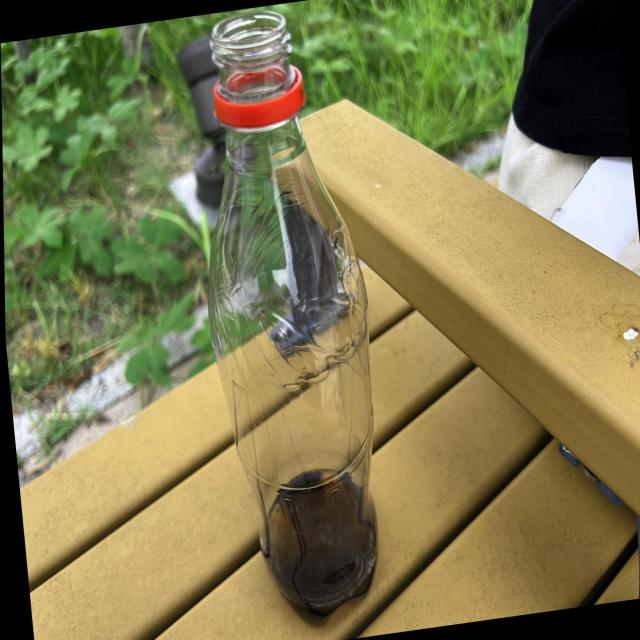low: (208, 11, 378, 621)
